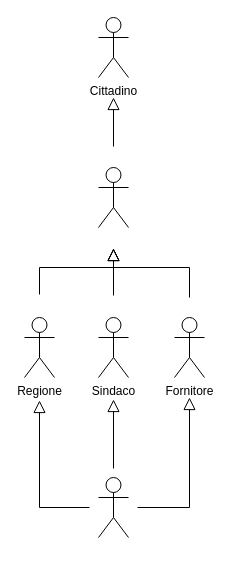
Some shapes in this 231 by 576 pixel diagram are drawn without their labels. Here are the shapes that lost their labels. From the top down, the box of each, then its label:
(98, 166, 128, 228): Progettista
(98, 476, 128, 538): Amministratore
